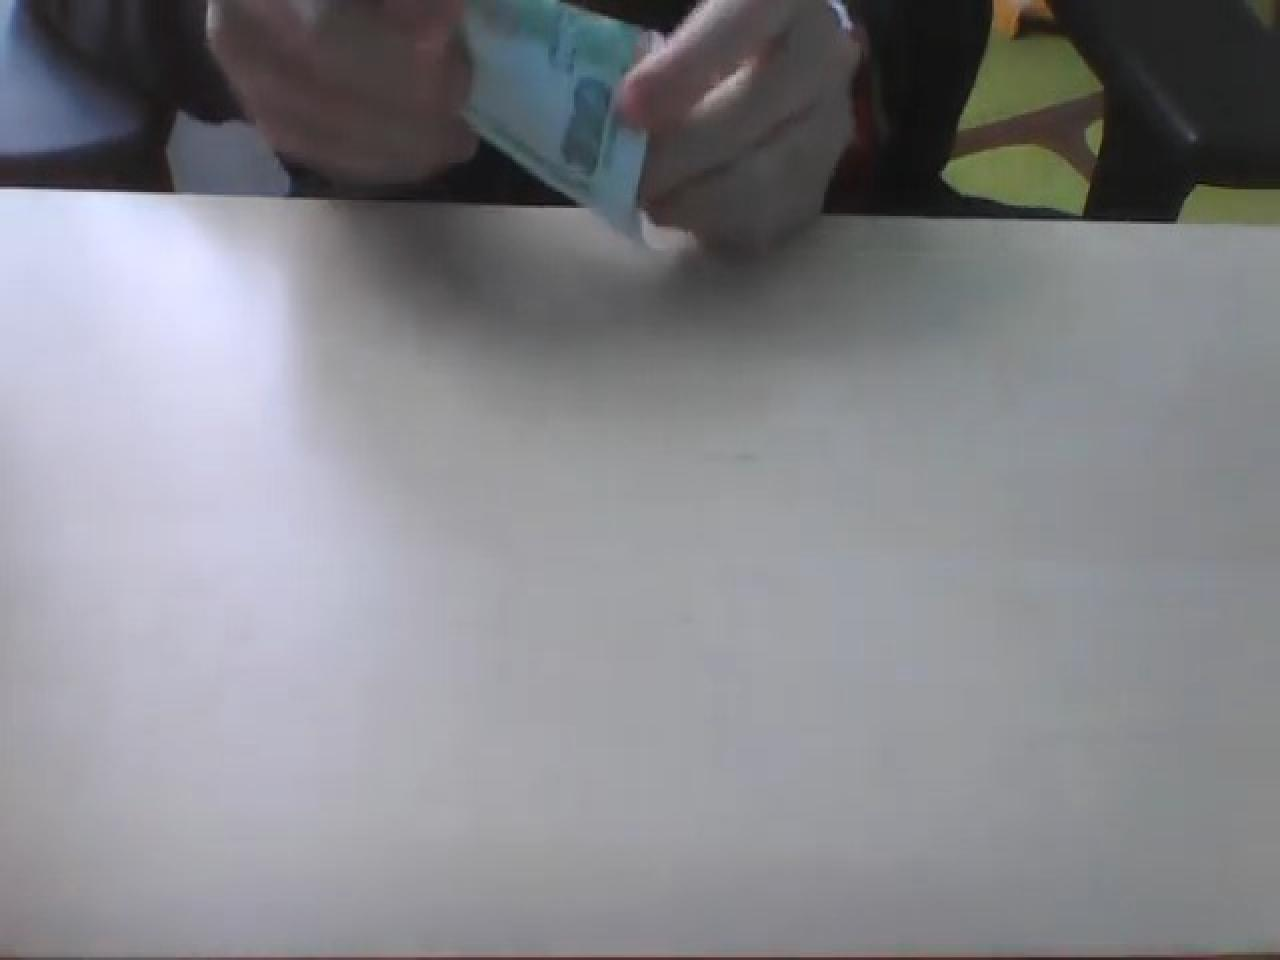100leva: (452, 0, 668, 237)
